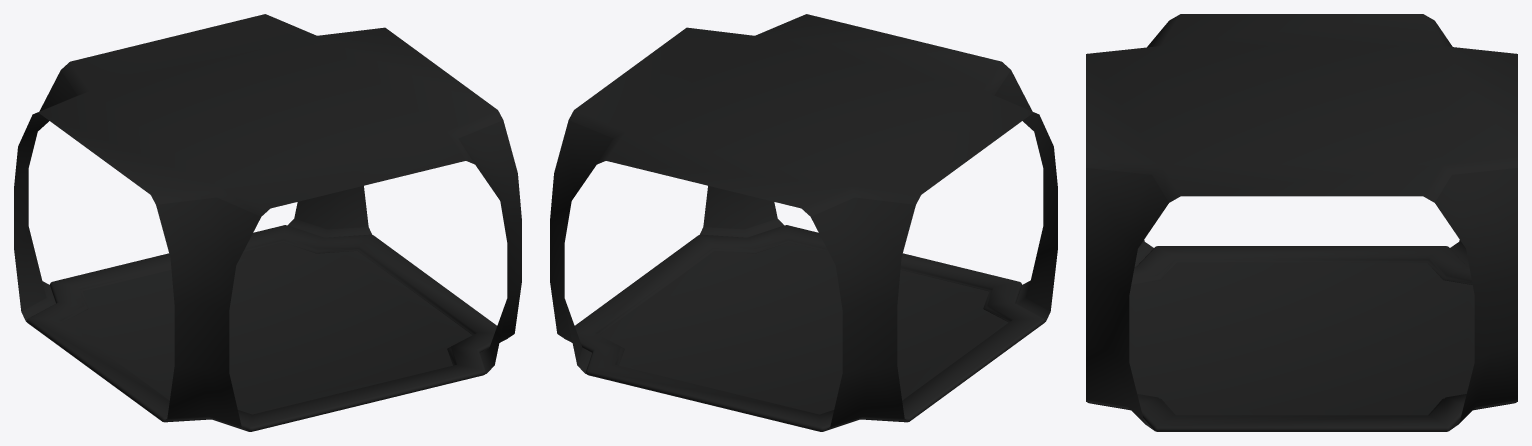
Rendered from corridor_crossing2.fbx.
3 views of the same model, side by side, from view 1: azimuth 30°, elevation 25°; view 2: azimuth 150°, elevation 25°; view 3: azimuth 270°, elevation 25° (orthographic). The views are drawn at different scales.
Parts seen in each view (by area): view 1: corridor_crossing2; view 2: corridor_crossing2; view 3: corridor_crossing2.
Boxes of the visible parts, x1,y1,x2,y2 form: corridor_crossing2: [14, 14, 521, 431]; corridor_crossing2: [550, 14, 1057, 431]; corridor_crossing2: [1086, 14, 1517, 431].
Bounding box in the file's own units: 500 × 302 × 500.
